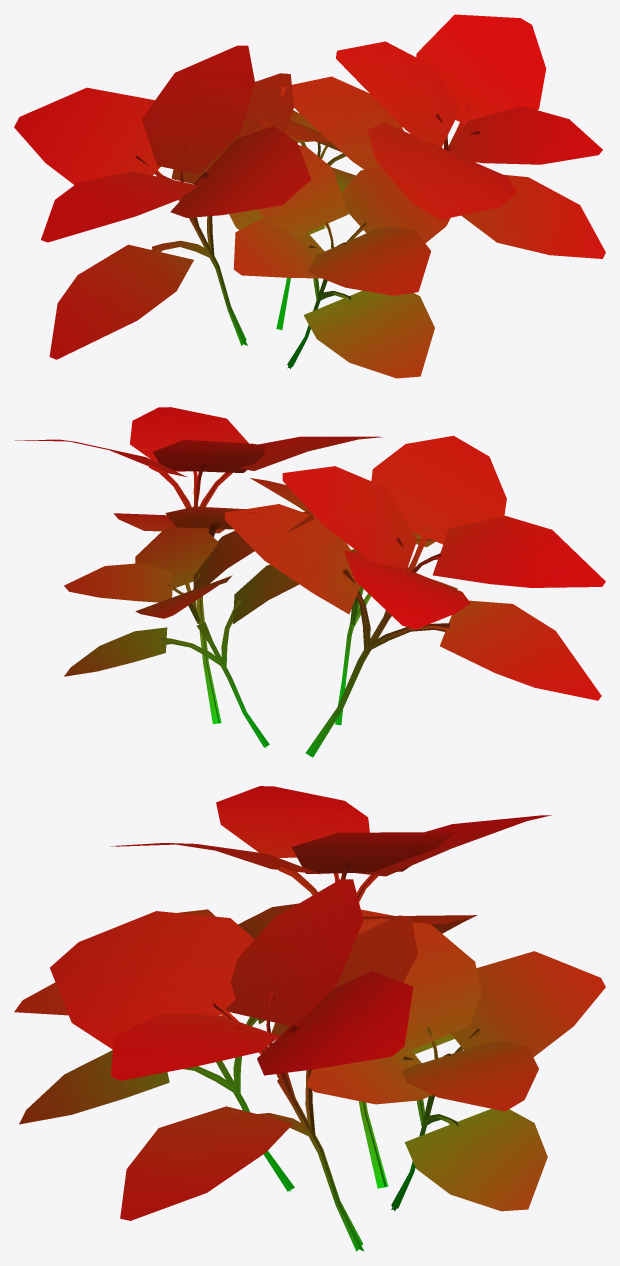
File: Yellow Archangel_LOD1_Var10_wcwmcfvia.fbx
The picture shows the model from 3 angles, top to bottom: view 1: azimuth 30°, elevation 25°; view 2: azimuth 150°, elevation 25°; view 3: azimuth 270°, elevation 25°; orthographic projection. The views are drawn at different scales.
Parts seen in each view (by area): view 1: _1rh4_Var10_LOD1; view 2: _1rh4_Var10_LOD1; view 3: _1rh4_Var10_LOD1.
Part boxes in pixels (x1,y1,x2,y2): _1rh4_Var10_LOD1: (14, 14, 605, 378); _1rh4_Var10_LOD1: (15, 407, 605, 757); _1rh4_Var10_LOD1: (14, 786, 605, 1251).
Bounding box in the file's own units: 8.89 × 4.54 × 6.69.
